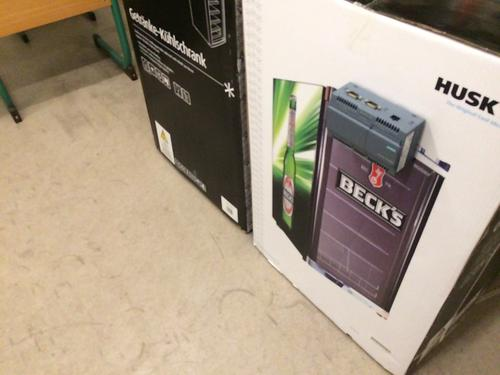iot2000: (325, 81, 426, 179)
